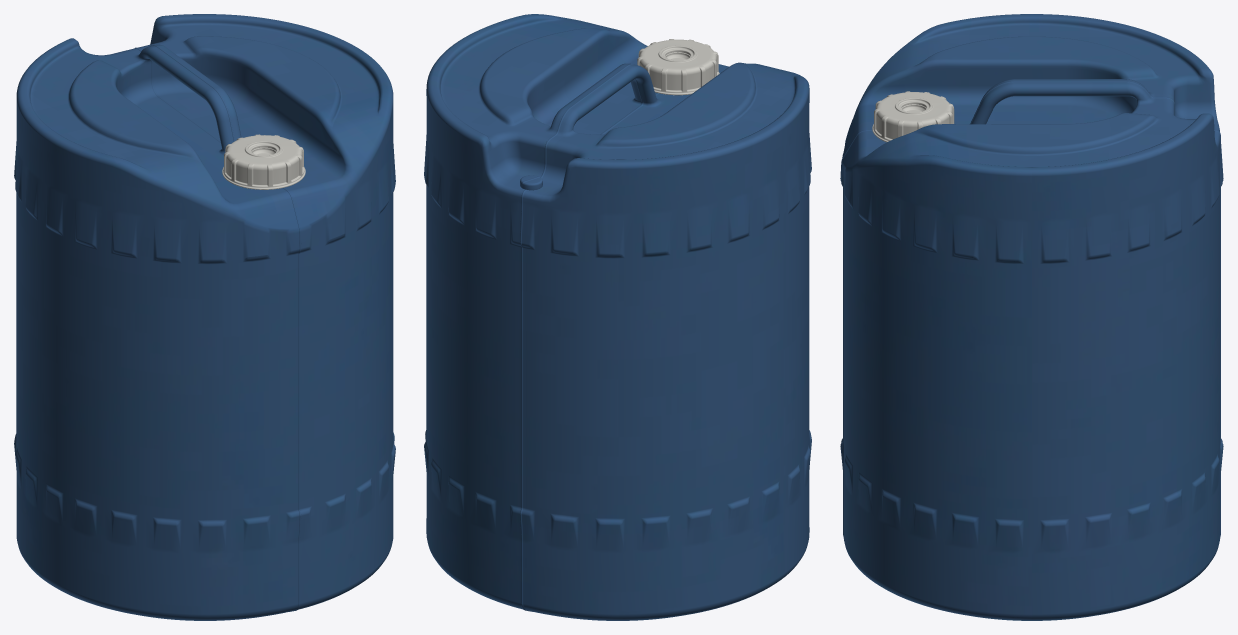
File: drum_plastic_blue_a01.glb
The picture shows the model from 3 angles, left to right: view 1: azimuth 30°, elevation 25°; view 2: azimuth 150°, elevation 25°; view 3: azimuth 270°, elevation 25°; orthographic projection.
Parts seen in each view (by area): view 1: sm_drum_a01_mesh_00; view 2: sm_drum_a01_mesh_00; view 3: sm_drum_a01_mesh_00.
Boxes of the visible parts, left/top/right/bottom form: sm_drum_a01_mesh_00: left=14, top=14, right=395, bottom=620; sm_drum_a01_mesh_00: left=424, top=14, right=811, bottom=620; sm_drum_a01_mesh_00: left=840, top=14, right=1223, bottom=620.
Bounding box in the file's own units: 0.2827 × 0.3866 × 0.2842.
Materials: 2 (2 with a texture image).
